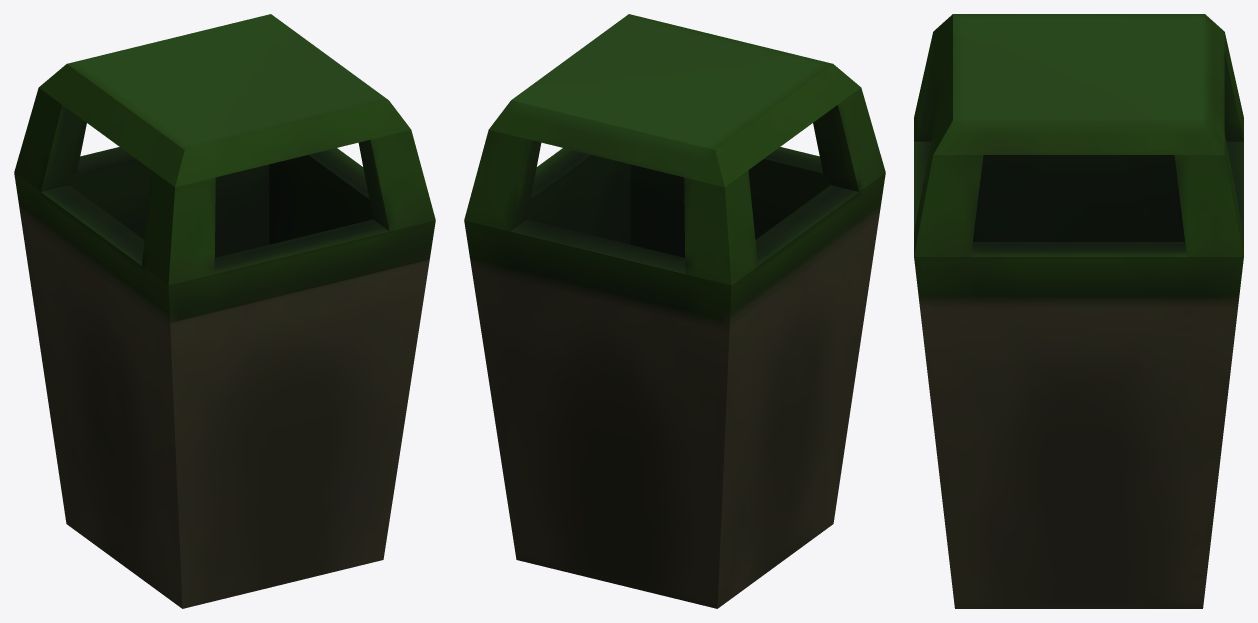
The model's file is bin.fbx.
3 views of the same model, side by side, from view 1: azimuth 30°, elevation 25°; view 2: azimuth 150°, elevation 25°; view 3: azimuth 270°, elevation 25° (orthographic). The views are drawn at different scales.
Visible parts, largest first — view 1: bin; view 2: bin; view 3: bin.
Part boxes in pixels (x1,y1,x2,y2): bin: (14, 14, 435, 608); bin: (464, 14, 885, 608); bin: (914, 14, 1243, 608).
Size of the model in its own units: 0.539 by 0.8846 by 0.539.
1 material, 1 textured.
